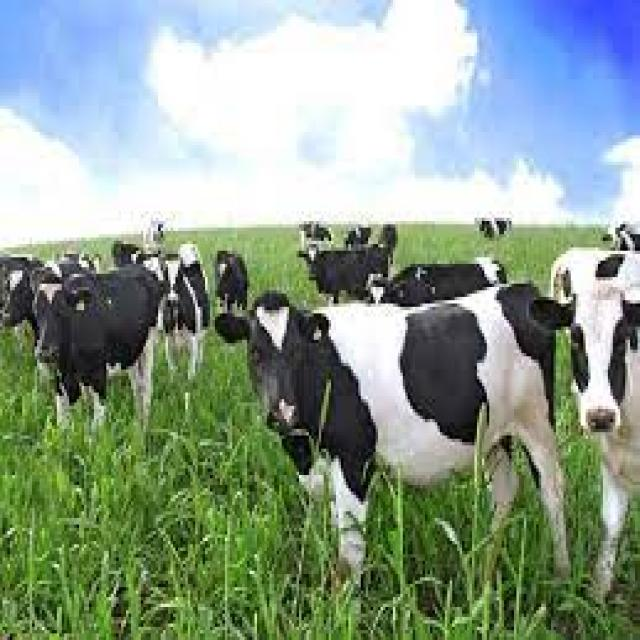cow: (239, 295, 563, 549), (38, 260, 184, 410), (560, 271, 640, 533), (358, 248, 533, 366), (142, 225, 228, 398), (3, 233, 121, 356), (298, 238, 412, 316)
